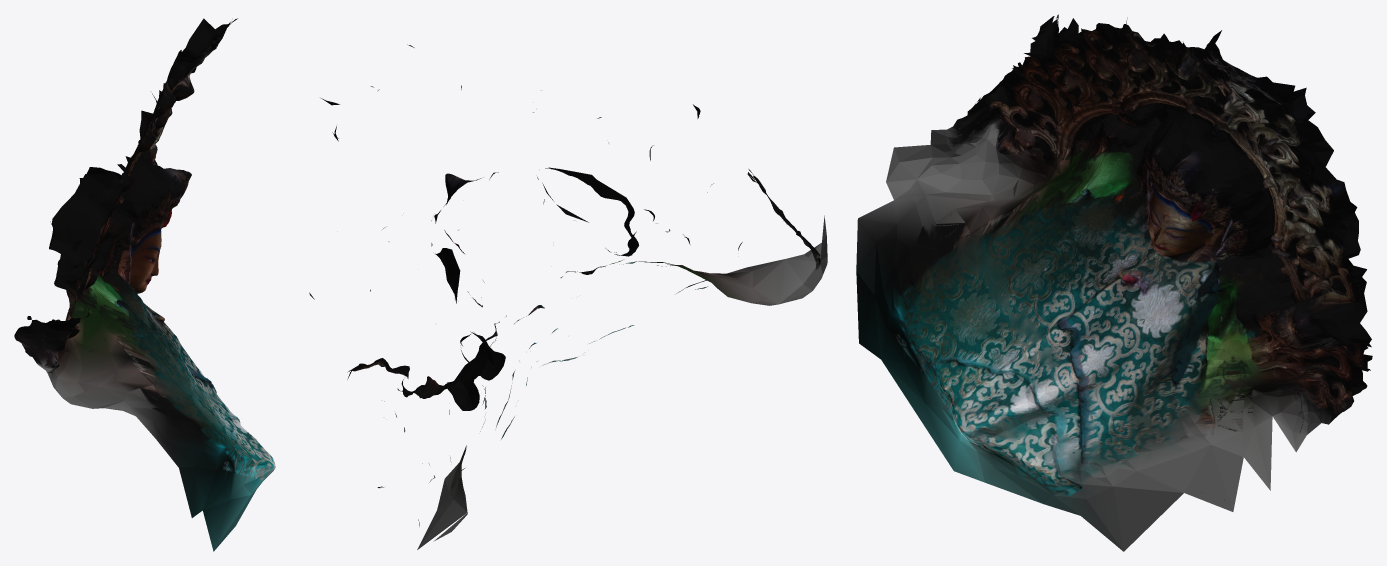
The model's file is AaryaTara.glb.
3 renders of one model, left to right at view 1: azimuth 30°, elevation 25°; view 2: azimuth 150°, elevation 25°; view 3: azimuth 270°, elevation 25°, orthographic. The views are drawn at different scales.
Bounding box in the file's own units: 2.08 × 2.88 × 2.49.
Materials: 12 (12 with a texture image).
